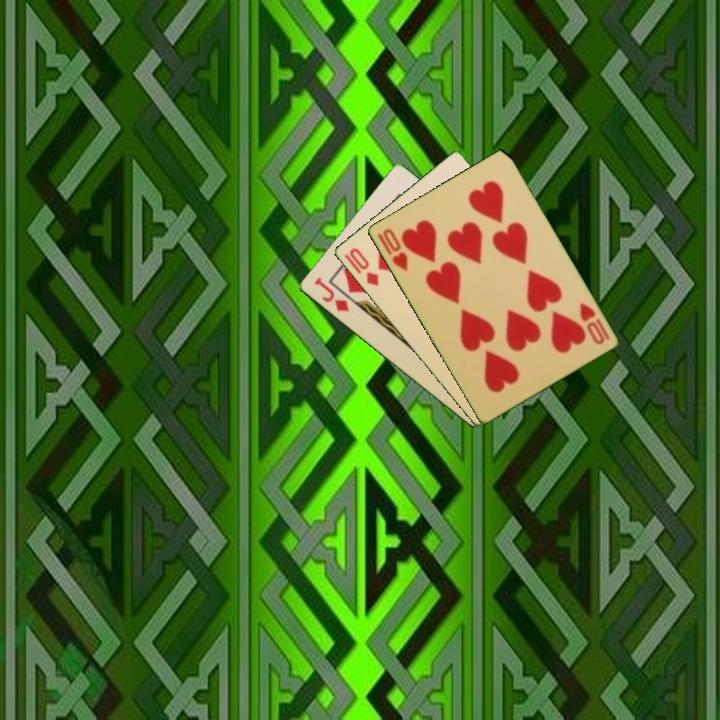10d: (341, 244, 382, 289)
10h: (373, 225, 411, 275), (576, 299, 612, 348)
Jd: (310, 273, 352, 315)
